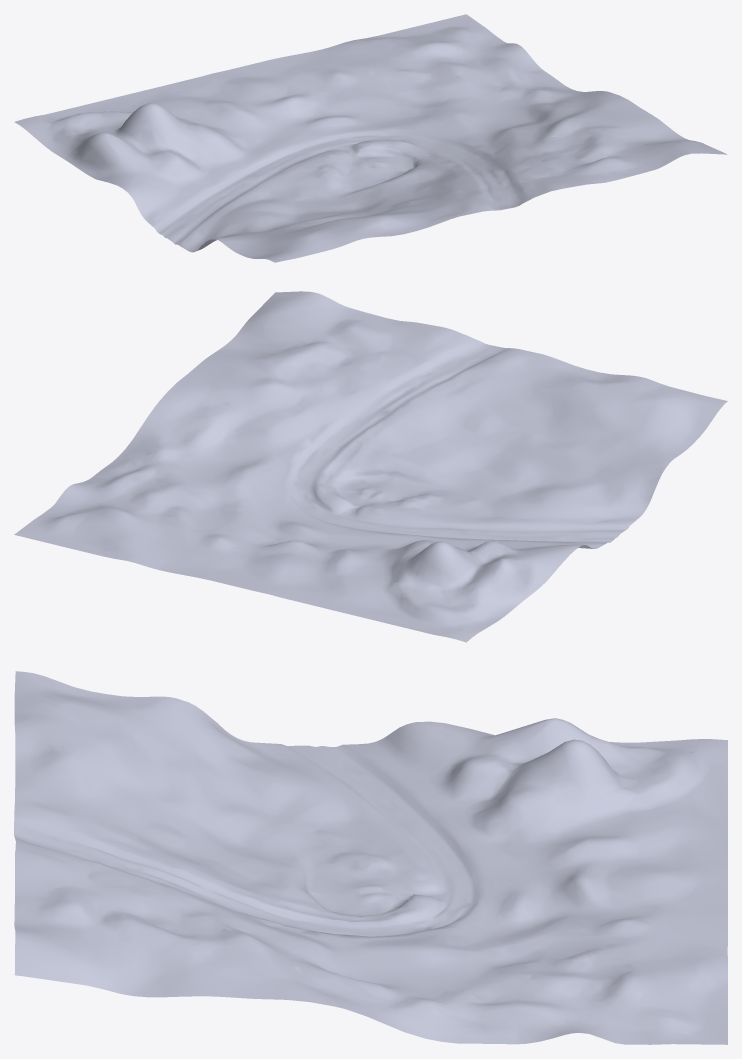
File: arena 1.fbx
3 renders of one model, top to bottom at view 1: azimuth 30°, elevation 25°; view 2: azimuth 150°, elevation 25°; view 3: azimuth 270°, elevation 25°, orthographic. The views are drawn at different scales.
Parts seen in each view (by area): view 1: background; view 2: background; view 3: background.
Part boxes in pixels (x1=…): background: x1=14, y1=14, x2=727, y2=262; background: x1=14, y1=291, x2=727, y2=642; background: x1=14, y1=671, x2=727, y2=1044.
Bounding box in the file's own units: 2529 × 339 × 2531.
